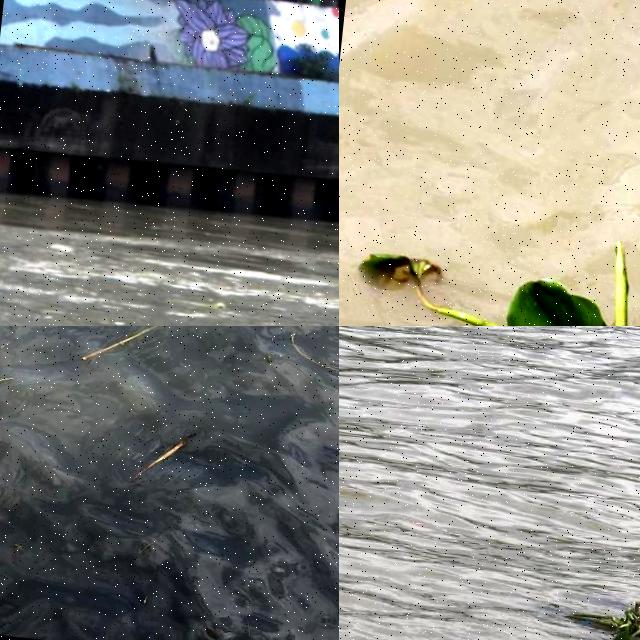water-hyacinth: (340, 169, 640, 327), (1, 327, 133, 562), (340, 327, 373, 349)
